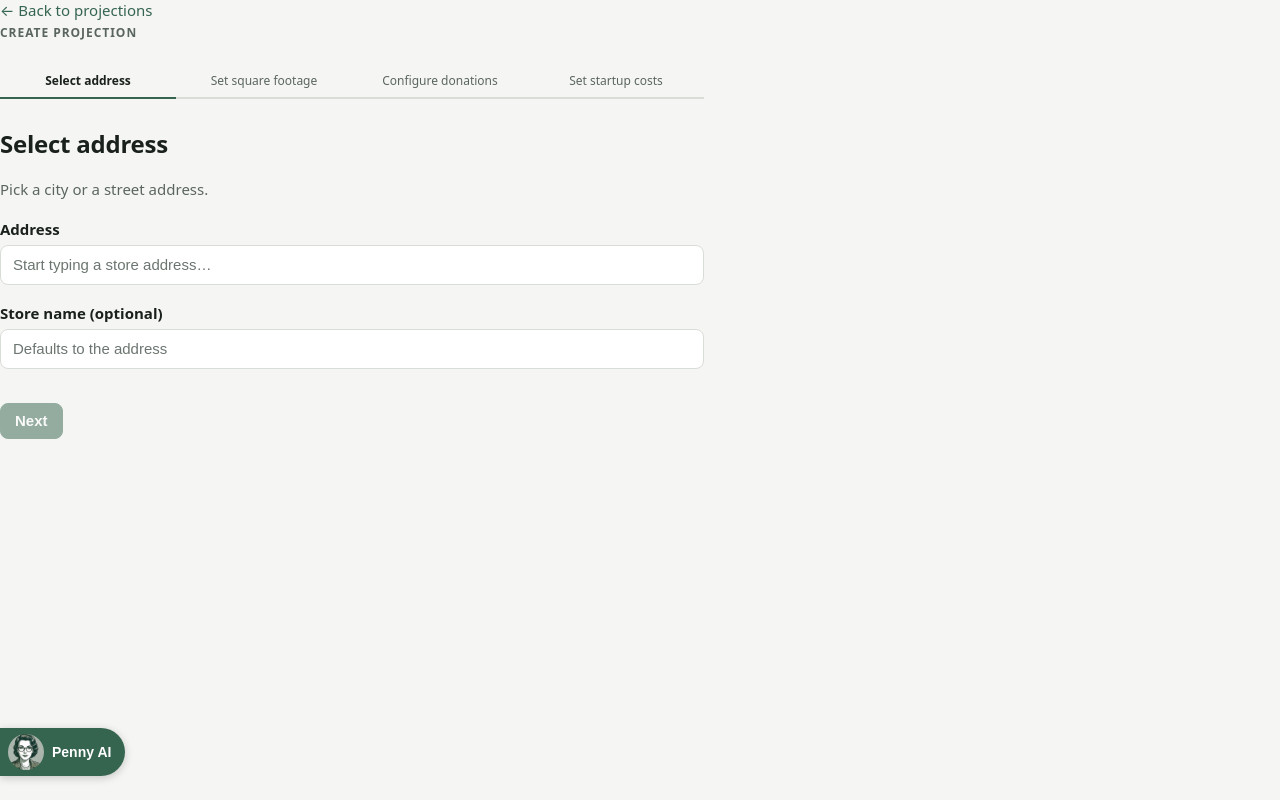
CreateProjectionPage — a Penny draft edit flows into the wizard field › Penny sets the store name on the draft; the wizard's name input updates
This screenshot has width=1280, height=800.
Click the button "Penny AI".
click(63, 752)  # box [0,728,125,776]
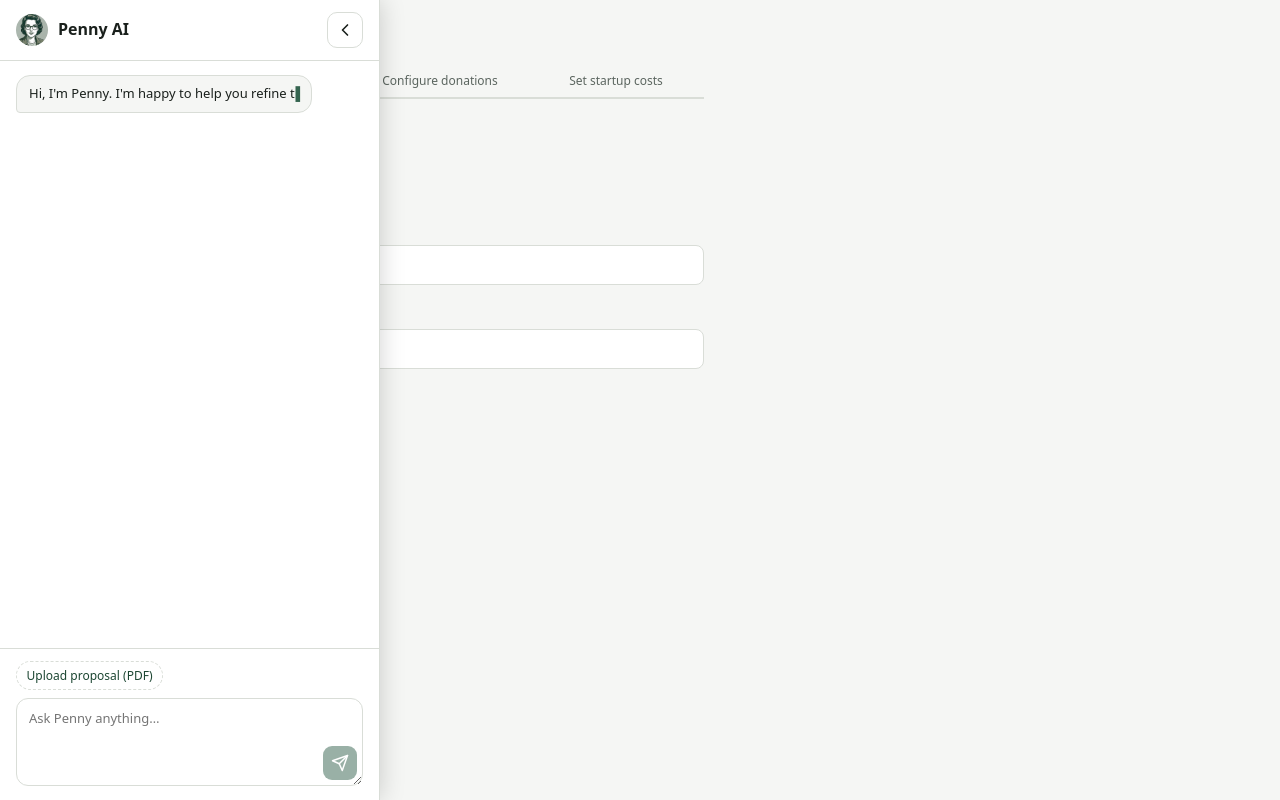
Type "Name my store House of Hope" into the text box labelled "Ask Penny anything…".
click(190, 742); type("Name my store House of Hope")  # box [16,698,363,786]
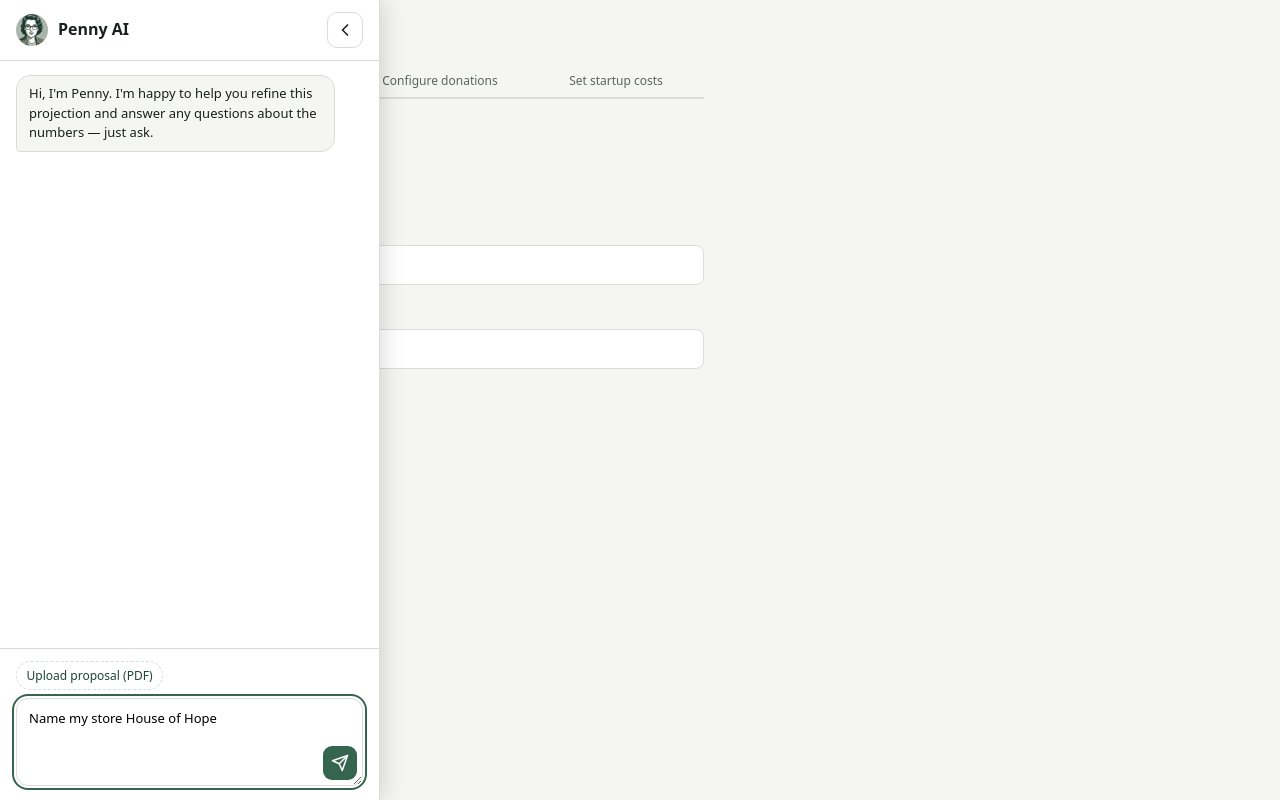
Press Enter
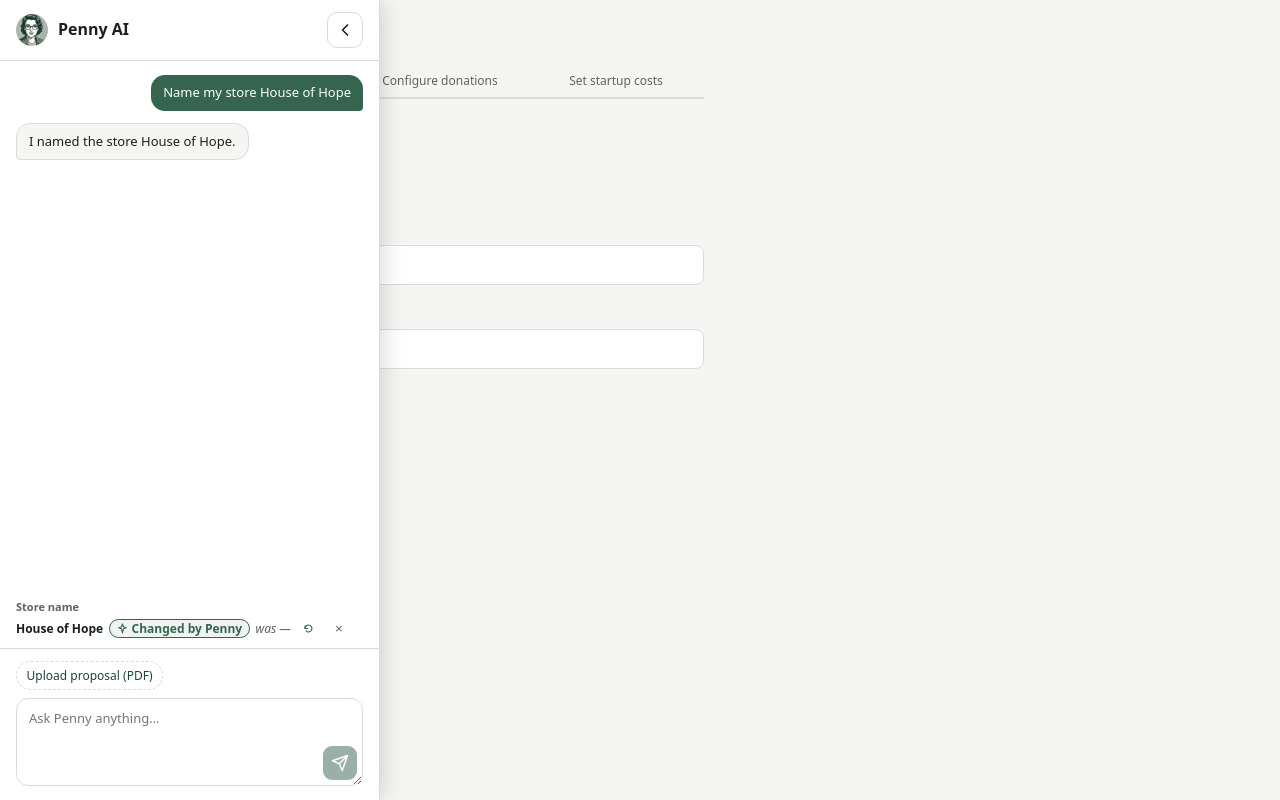
Expected: the field labelled "Store name (optional)" holds "House of Hope", [0,329,704,369]
Expected: the text "I named the store House of Hope." is shown, [29,132,236,151]
Expected: the button with test id "field-change-undo" is shown, [297,616,321,640]
